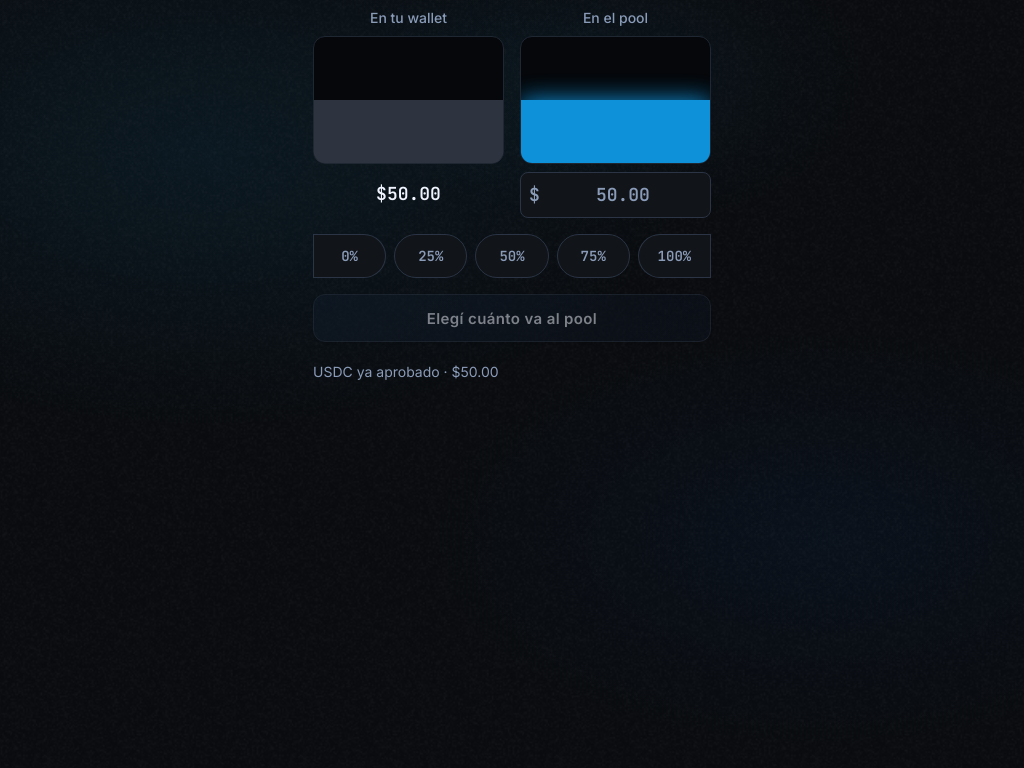
Test: MoveScreen › the 100% pill puts everything in the pool, the 0% pill takes everything out
Later steps or results of the test are not shown.
Click the radio button labelled "100%".
click(674, 256)  # box [638,234,711,278]
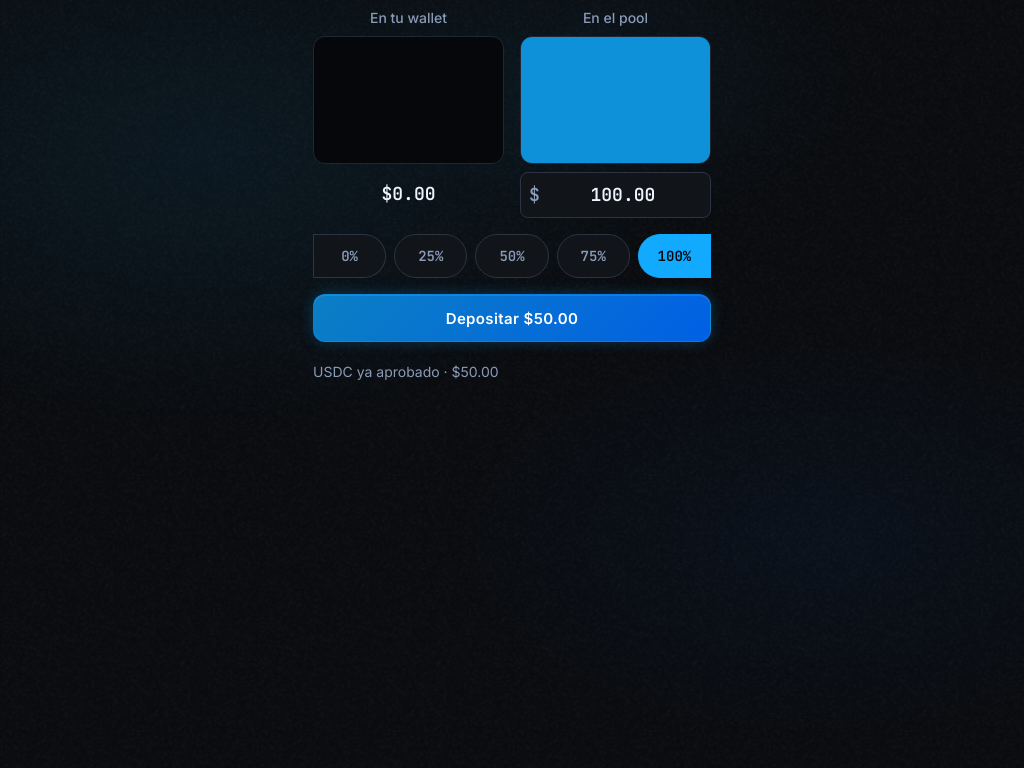
Result: the button "Depositar $50.00" is enabled at [313,294,711,342]
Click the radio button labelled "0%".
click(350, 256)  # box [313,234,386,278]
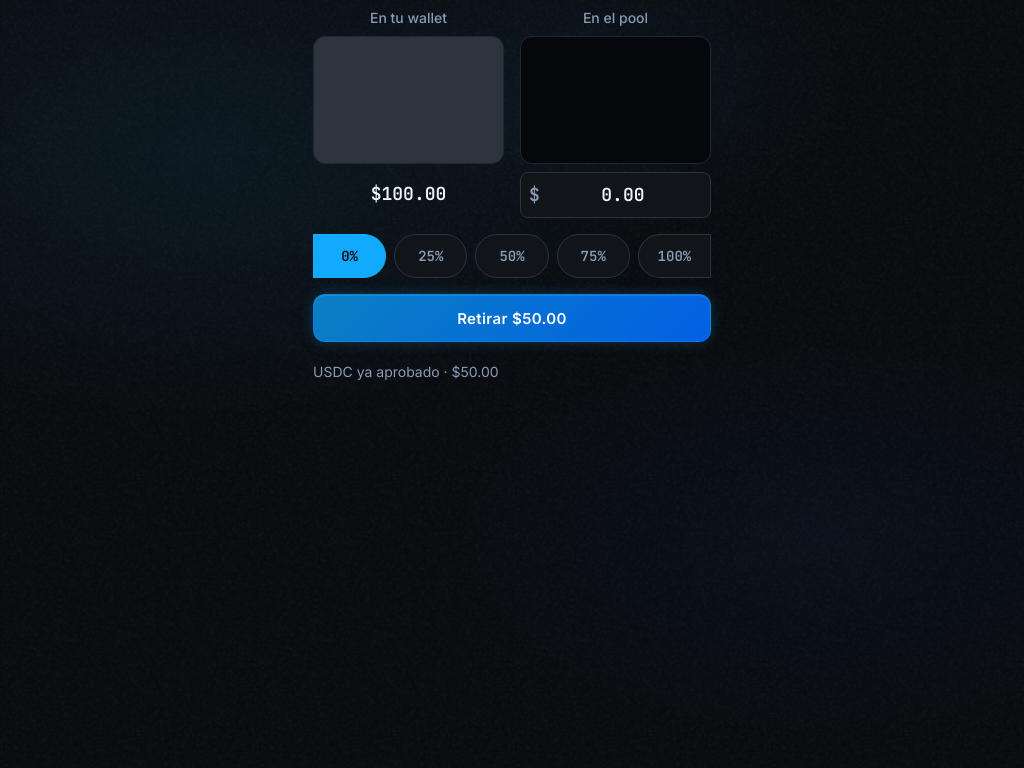
Result: the button "Retirar $50.00" is enabled at [313,294,711,342]
